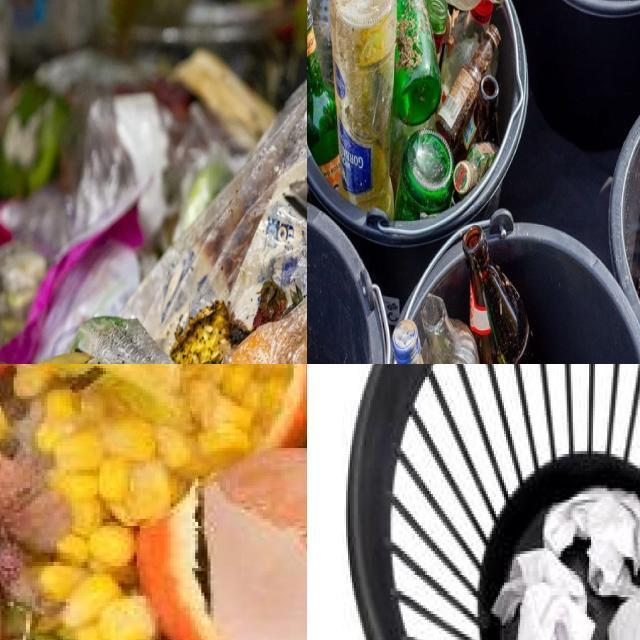Garbage: (0, 364, 307, 640), (307, 0, 506, 222), (490, 476, 640, 640), (393, 224, 540, 364)
Glass_bottle: (329, 0, 396, 215), (463, 224, 540, 364), (436, 25, 500, 150), (307, 3, 340, 188), (393, 0, 441, 126), (394, 130, 453, 222), (441, 0, 494, 90), (421, 296, 480, 364), (455, 75, 500, 161), (453, 141, 495, 197), (311, 0, 332, 83), (393, 318, 424, 364), (427, 0, 449, 33)
Plastic_Bag: (71, 84, 307, 364), (0, 91, 171, 364)
top_view_waste: (351, 364, 640, 640)
